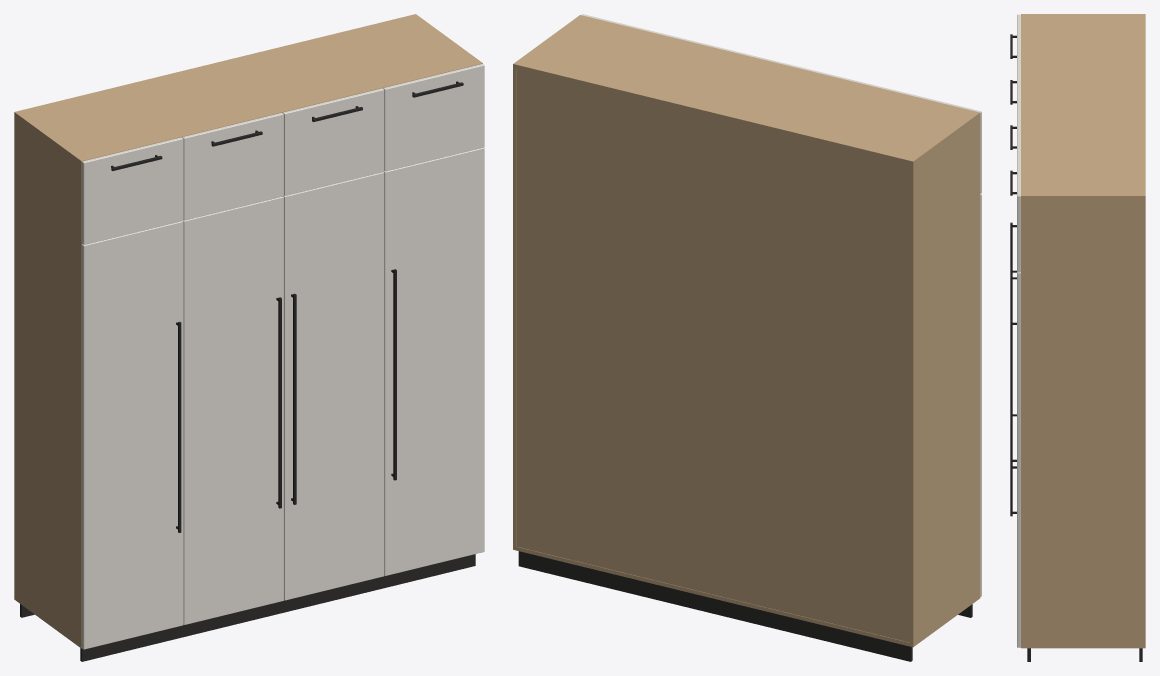
File: 06_szafa_4d_200_nadstawka.glb
3 views of the same model, side by side, from view 1: azimuth 30°, elevation 25°; view 2: azimuth 150°, elevation 25°; view 3: azimuth 270°, elevation 25° (orthographic). The views are drawn at different scales.
Parts seen in each view (by area): view 1: Korpus, Front_drzwi_2, Front_drzwi_6, Front_drzwi_4, Front_drzwi_8, Front_klapa_1, Front_klapa_7, Front_klapa_3, Front_klapa_5, Cokol, Uchwyty; view 2: Korpus, Cokol, Front_drzwi_2; view 3: Korpus, Front_drzwi_8, Uchwyty, Front_klapa_7.
Part boxes in pixels (left/top/right/bottom): Korpus: left=14, top=14, right=482, bottom=648; Front_drzwi_2: left=82, top=221, right=183, bottom=649; Front_drzwi_6: left=283, top=172, right=384, bottom=600; Front_drzwi_4: left=183, top=196, right=283, bottom=624; Front_drzwi_8: left=384, top=147, right=484, bottom=575; Front_klapa_1: left=82, top=137, right=183, bottom=244; Front_klapa_7: left=383, top=64, right=484, bottom=171; Front_klapa_3: left=182, top=113, right=283, bottom=220; Front_klapa_5: left=283, top=88, right=384, bottom=195; Cokol: left=20, top=554, right=475, bottom=661; Uchwyty: left=111, top=81, right=463, bottom=532; Korpus: left=513, top=15, right=980, bottom=647; Cokol: left=518, top=551, right=972, bottom=661; Front_drzwi_2: left=980, top=194, right=981, bottom=596; Korpus: left=1021, top=14, right=1145, bottom=648; Front_drzwi_8: left=1017, top=272, right=1020, bottom=647; Uchwyty: left=1010, top=34, right=1016, bottom=516; Front_klapa_7: left=1017, top=151, right=1020, bottom=272.
Size of the model in its own units: 2 by 2.4 by 0.63.
